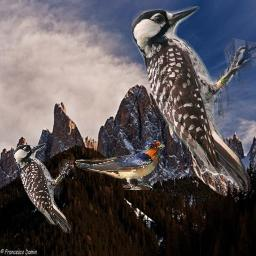Swallow: (76, 140, 165, 190)
Woodpecker: (131, 6, 256, 192), (13, 143, 74, 233)
